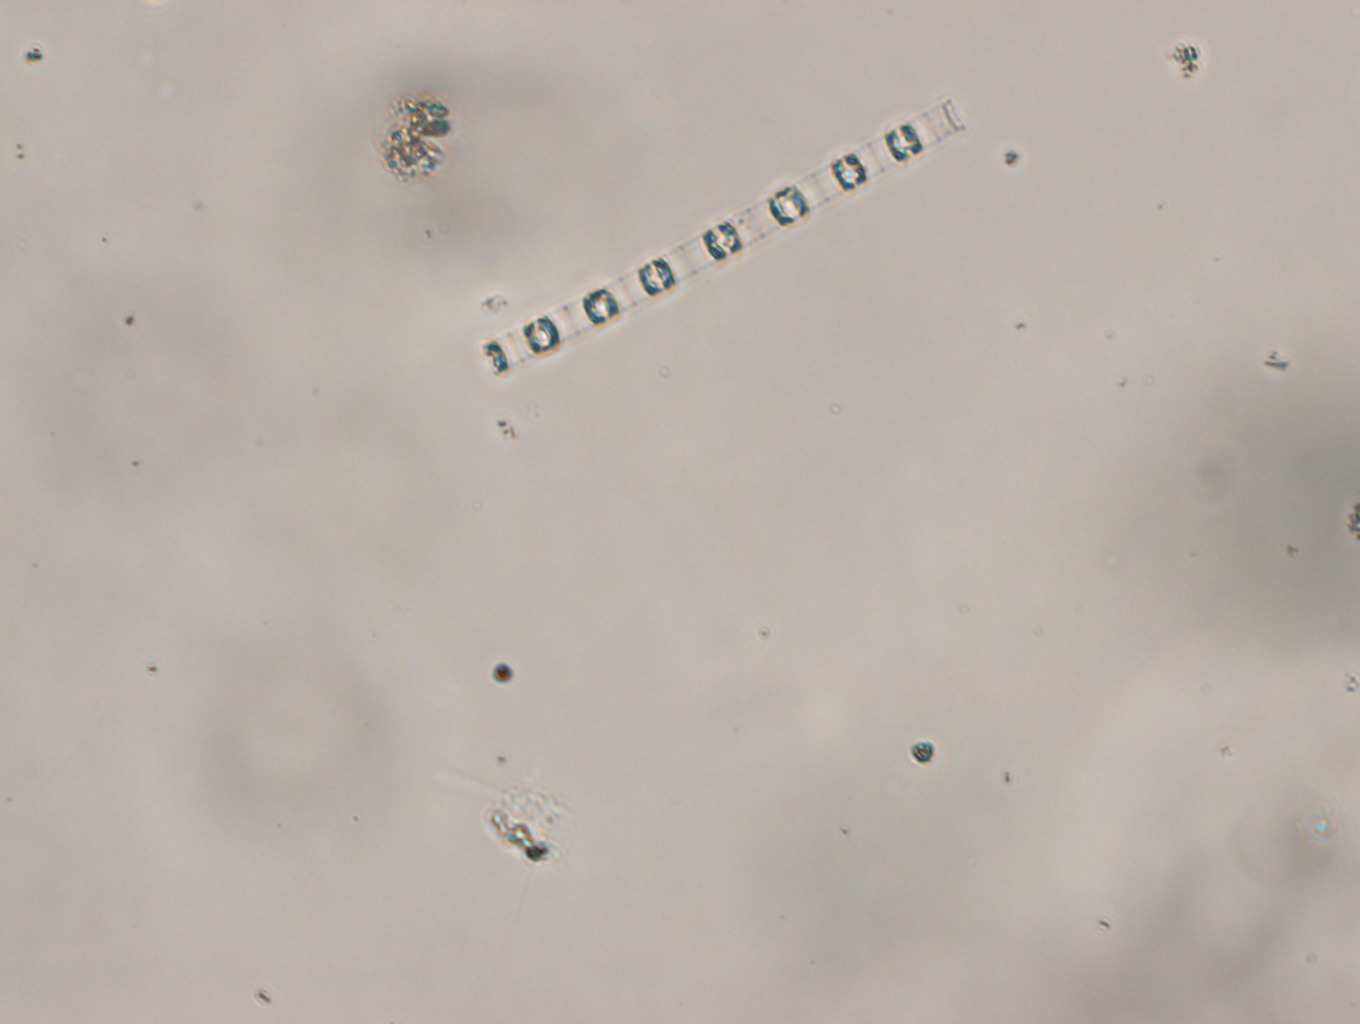skeletonema: (469, 80, 977, 382)
